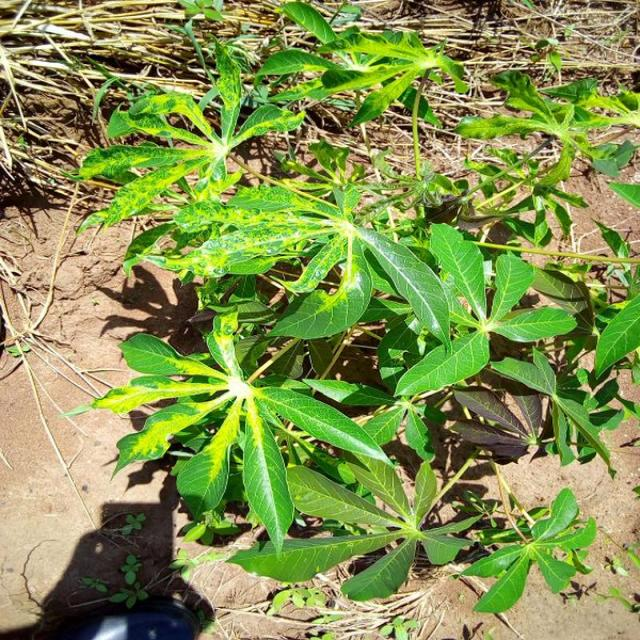cassava leaf: (79, 309, 398, 556)
